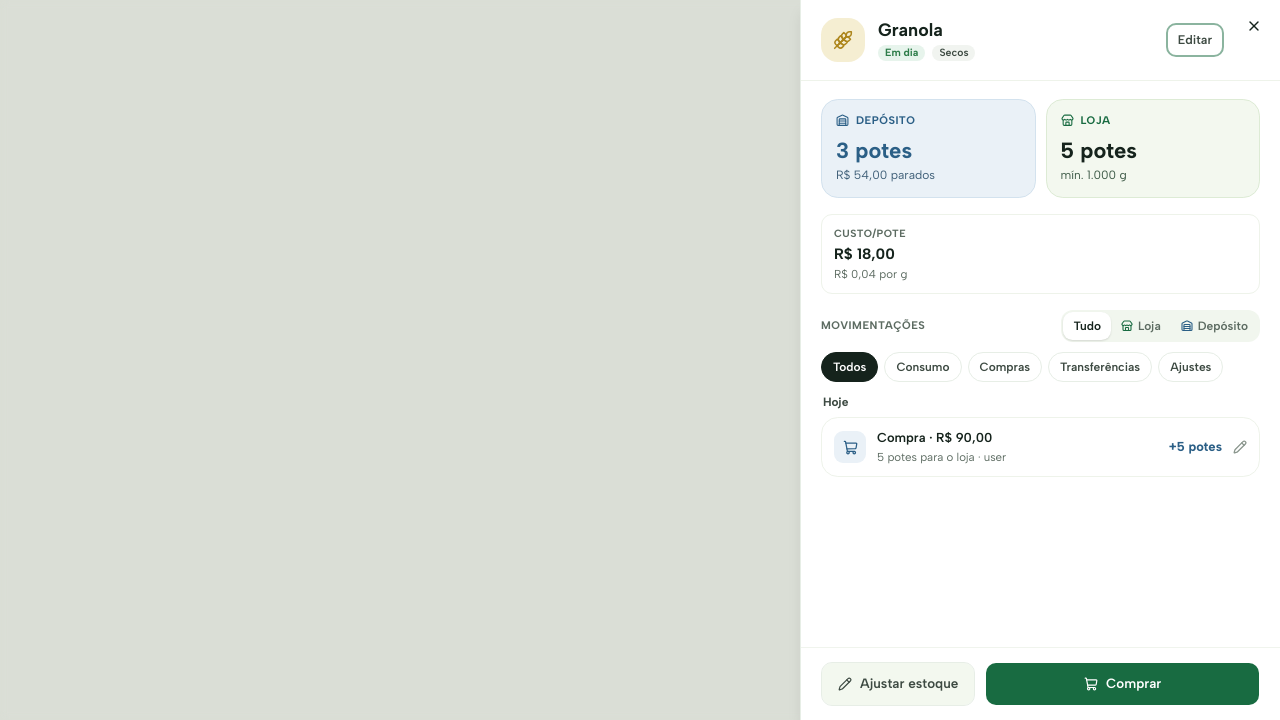
Scenario: StockDetailSheet › movimentações › says so when nothing matches, and groups rows under their day
Expected: the text "Hoje" is shown, 823,395 -> 848,409
Click the button "Ajustes" at (1191, 367), box 1158,352 -> 1224,382
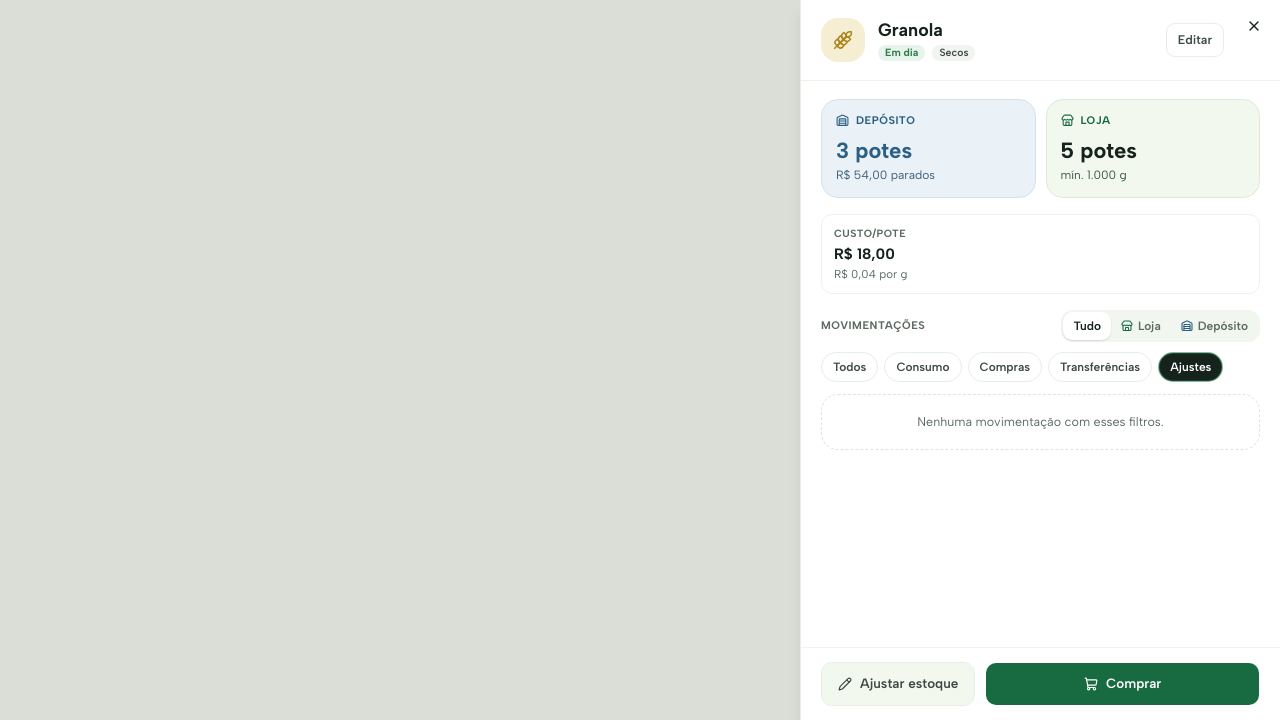
Now the text "Nenhuma movimentação com esses filtros." is shown, box 821,394 -> 1260,450
